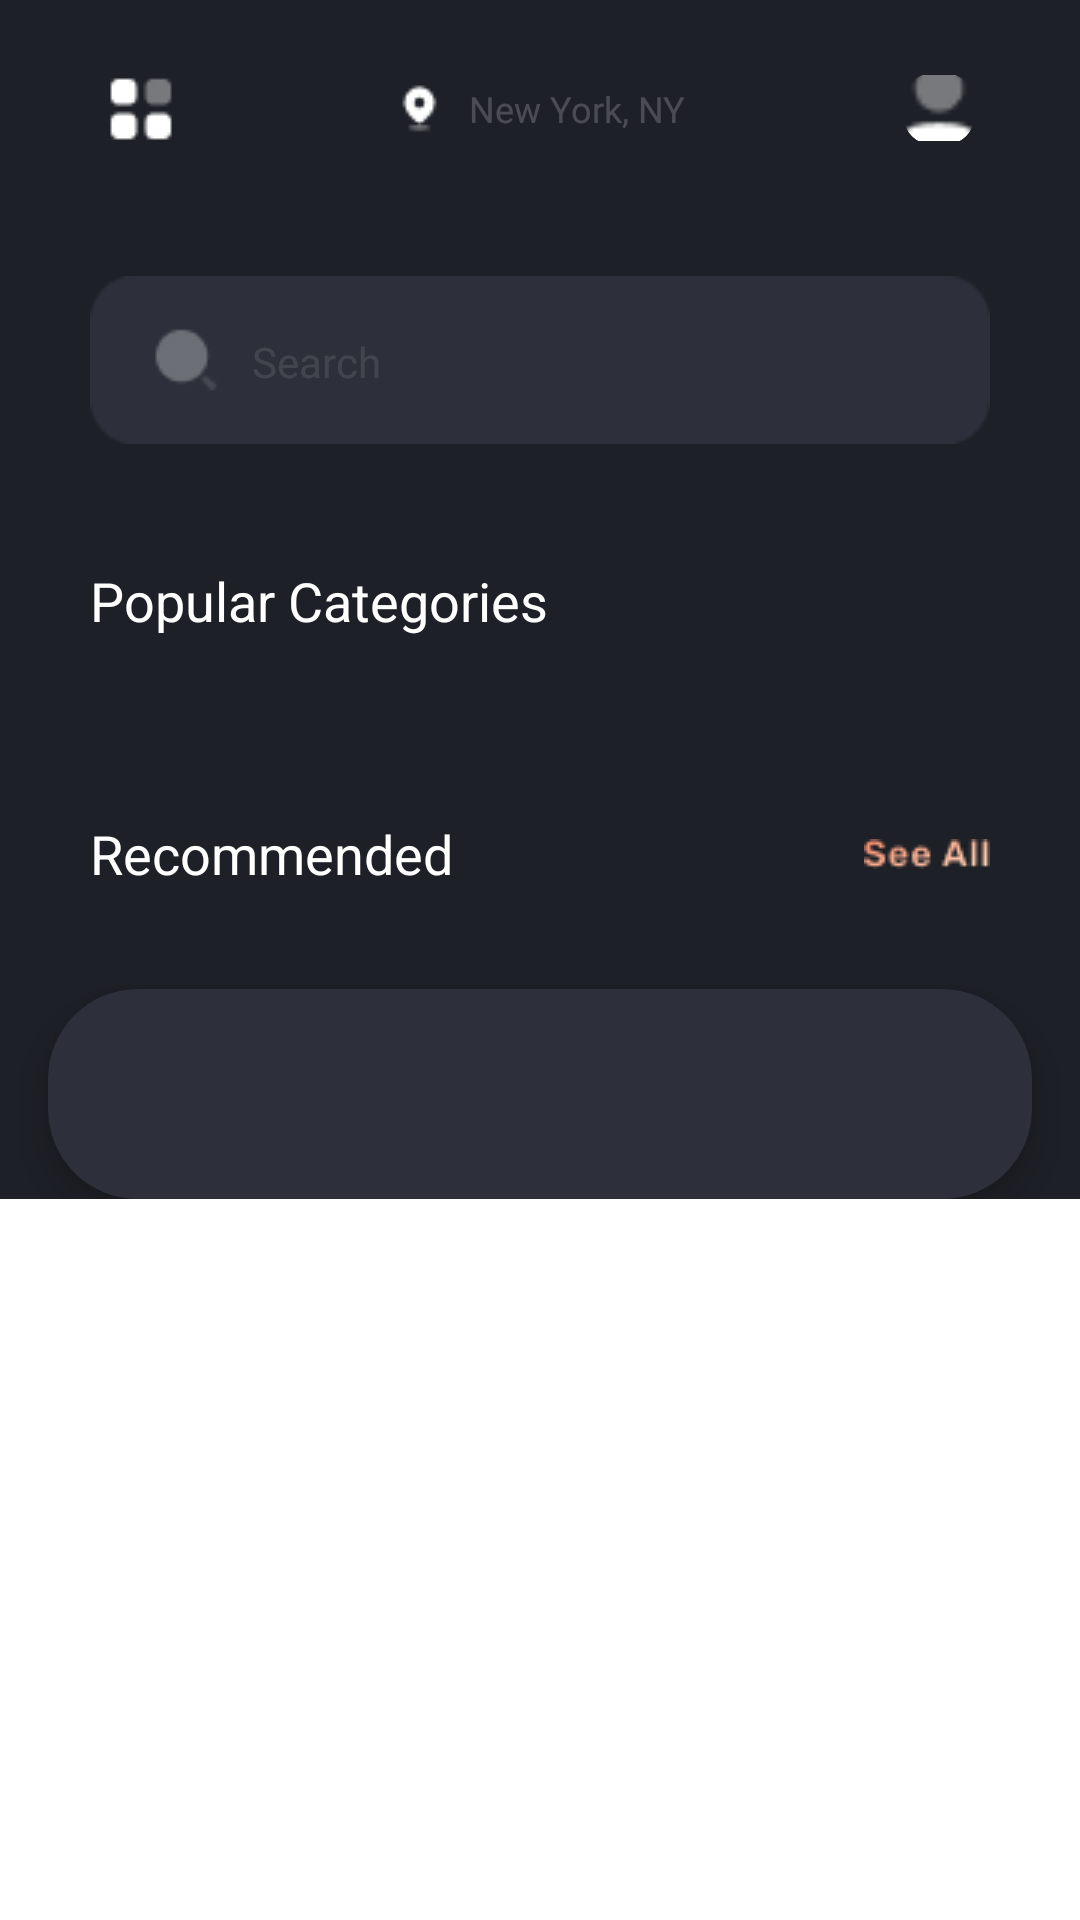

Screen size 1080w x 1920h. Icon name, then its box in pixels as (x1,y1,x2,y2):
category: (110,78,172,140)
location: (402,85,437,131)
profile: (906,75,972,141)
